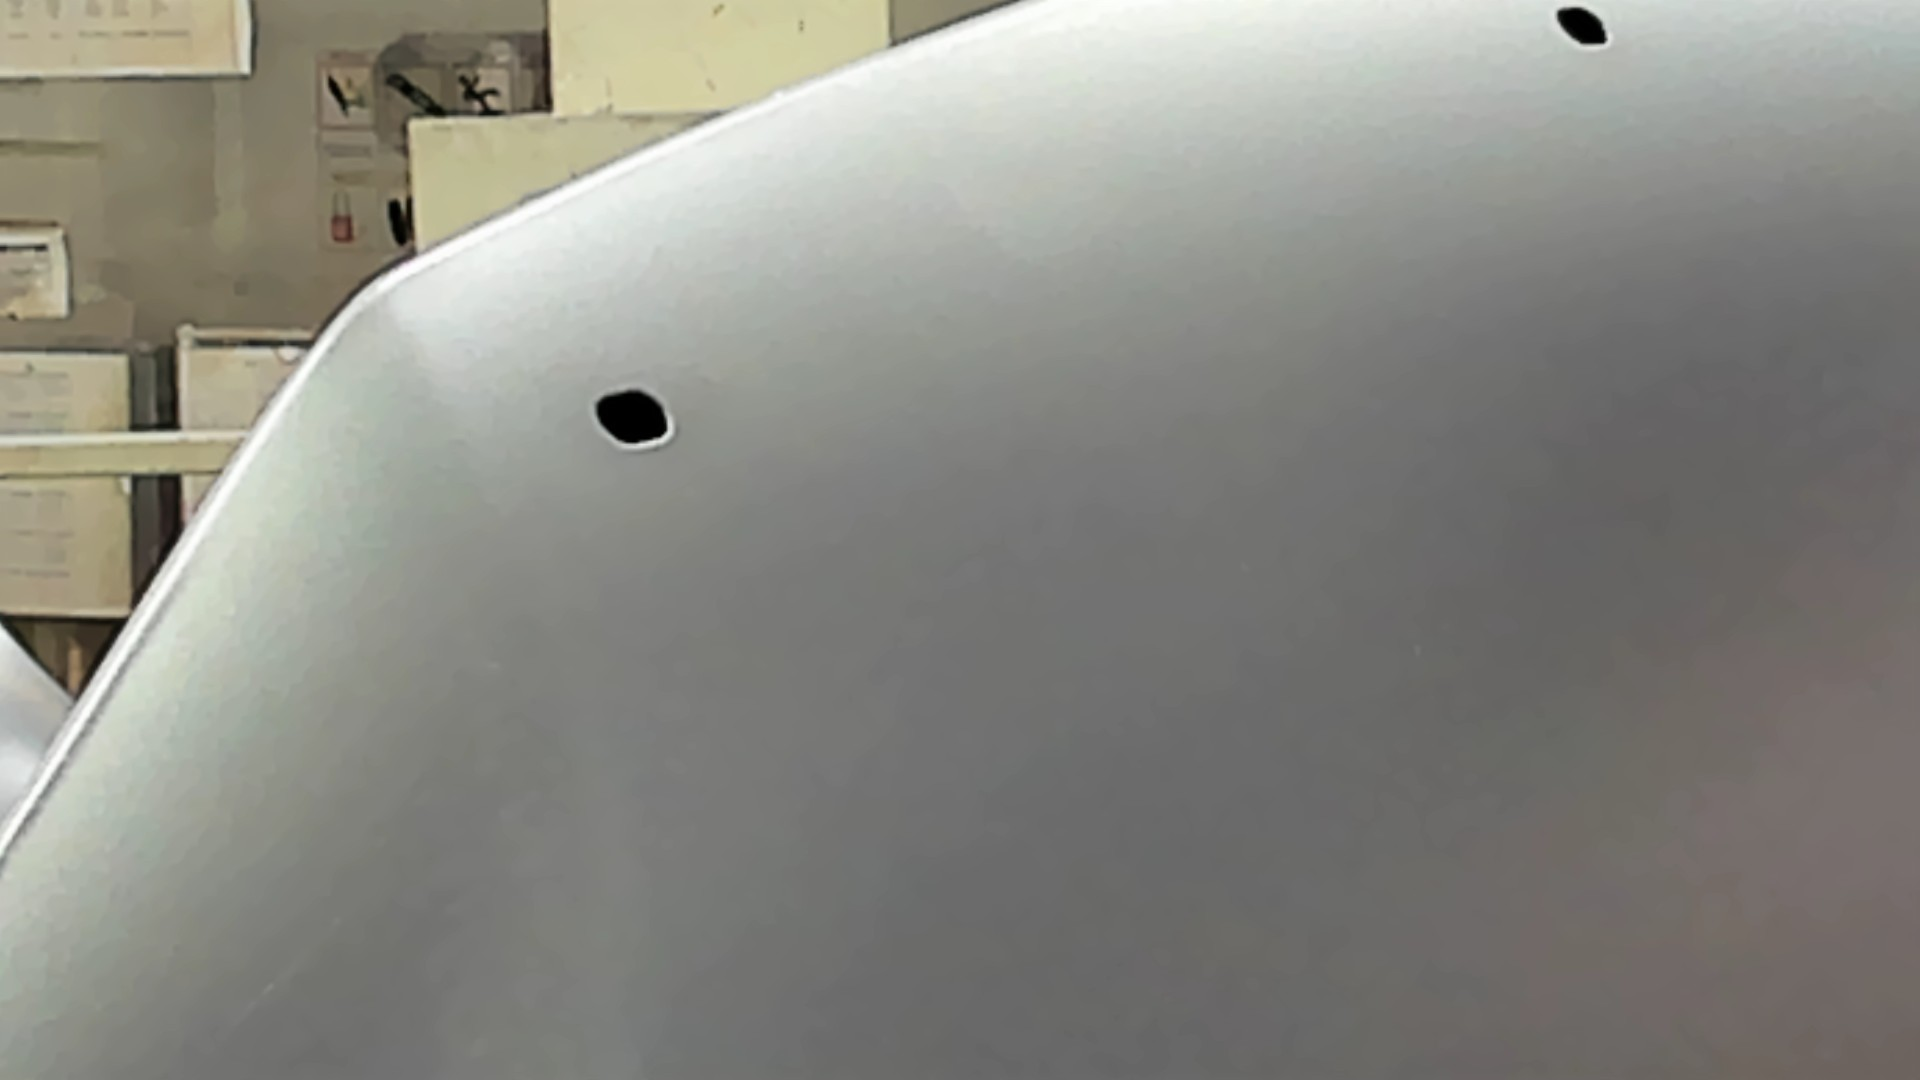amorfo: (588, 386, 676, 451), (1545, 4, 1615, 50)
